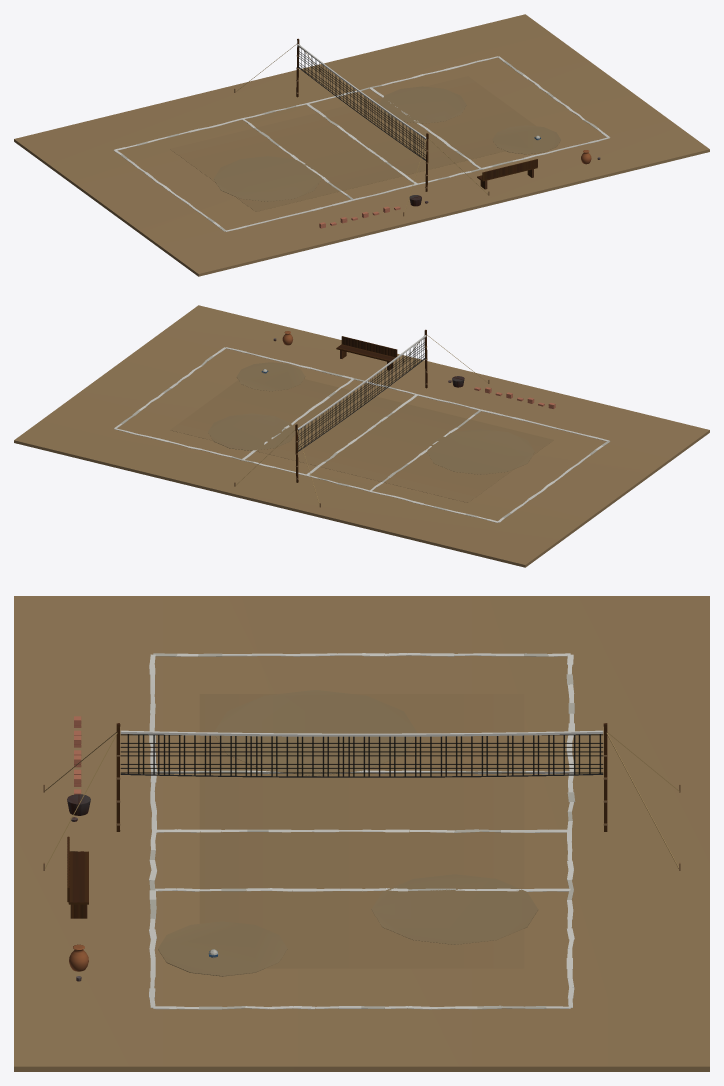
File: volleyball_v2.glb
3 renders of one model, top to bottom at view 1: azimuth 30°, elevation 25°; view 2: azimuth 150°, elevation 25°; view 3: azimuth 270°, elevation 25°, orthographic. The views are drawn at different scales.
Visible parts, largest first — view 1: hb_main, decals, hb_props; view 2: hb_main, decals, hb_props; view 3: hb_main, decals, hb_props.
Boxes of the visible parts, x1,y1,x2,y2 form: hb_main: [14, 14, 709, 276]; decals: [298, 46, 425, 159]; hb_props: [234, 38, 537, 216]; hb_main: [14, 305, 709, 567]; decals: [298, 337, 425, 450]; hb_props: [234, 329, 489, 507]; hb_main: [14, 596, 709, 1071]; decals: [120, 734, 603, 776]; hb_props: [43, 723, 680, 918].
Size of the model in its own units: 24 by 2.7 by 15.
5 materials, 1 textured.
